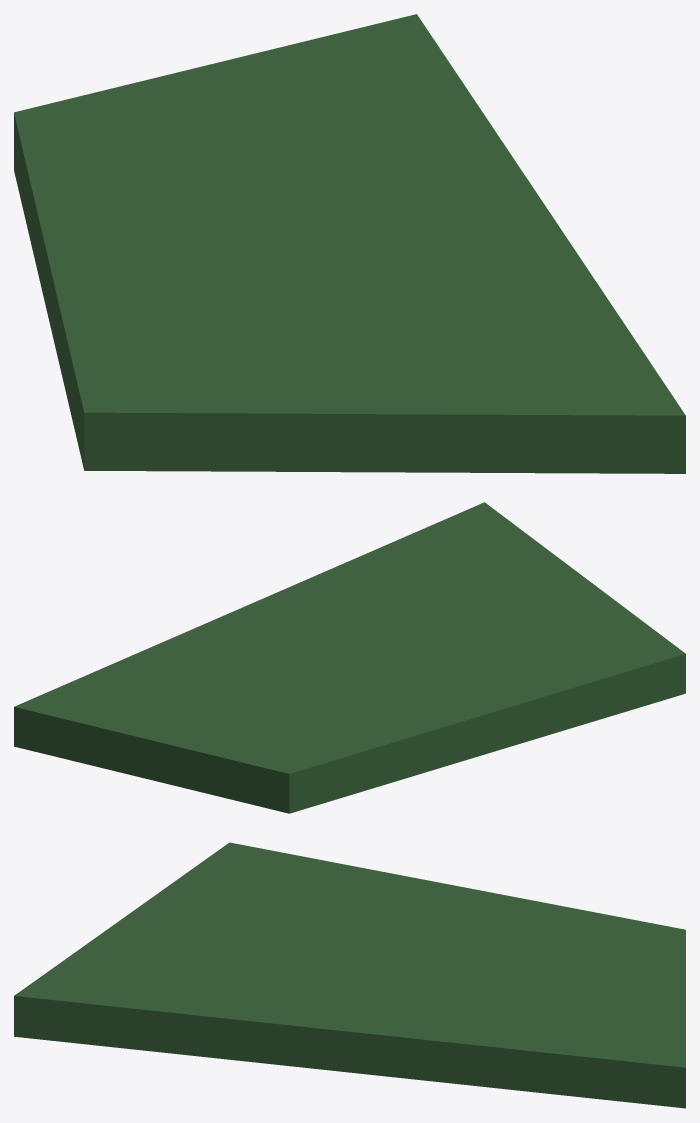
The model's file is x_proval_00_74_1_rmstrd.fbx.
The picture shows the model from 3 angles, top to bottom: view 1: azimuth 30°, elevation 25°; view 2: azimuth 150°, elevation 25°; view 3: azimuth 270°, elevation 25°; orthographic projection. The views are drawn at different scales.
Visible parts, largest first — view 1: x_proval_00_74_1_rmstrd1; view 2: x_proval_00_74_1_rmstrd1; view 3: x_proval_00_74_1_rmstrd1.
Part boxes in pixels (x1,y1,x2,y2): x_proval_00_74_1_rmstrd1: (14, 14, 685, 473); x_proval_00_74_1_rmstrd1: (14, 502, 685, 813); x_proval_00_74_1_rmstrd1: (14, 842, 685, 1108).
Bounding box in the file's own units: 2.37 × 0.2 × 2.98.
